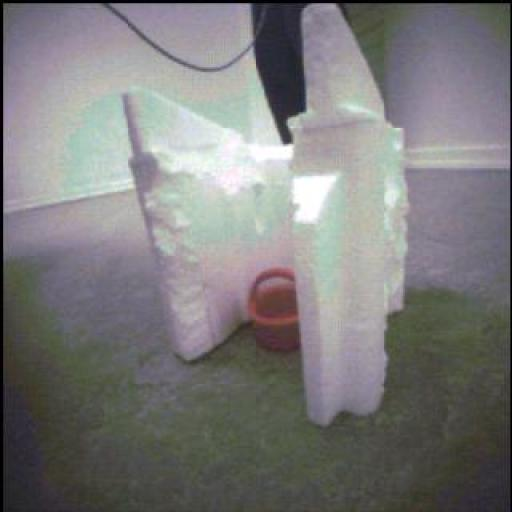Bucket: (251, 265, 310, 359)
